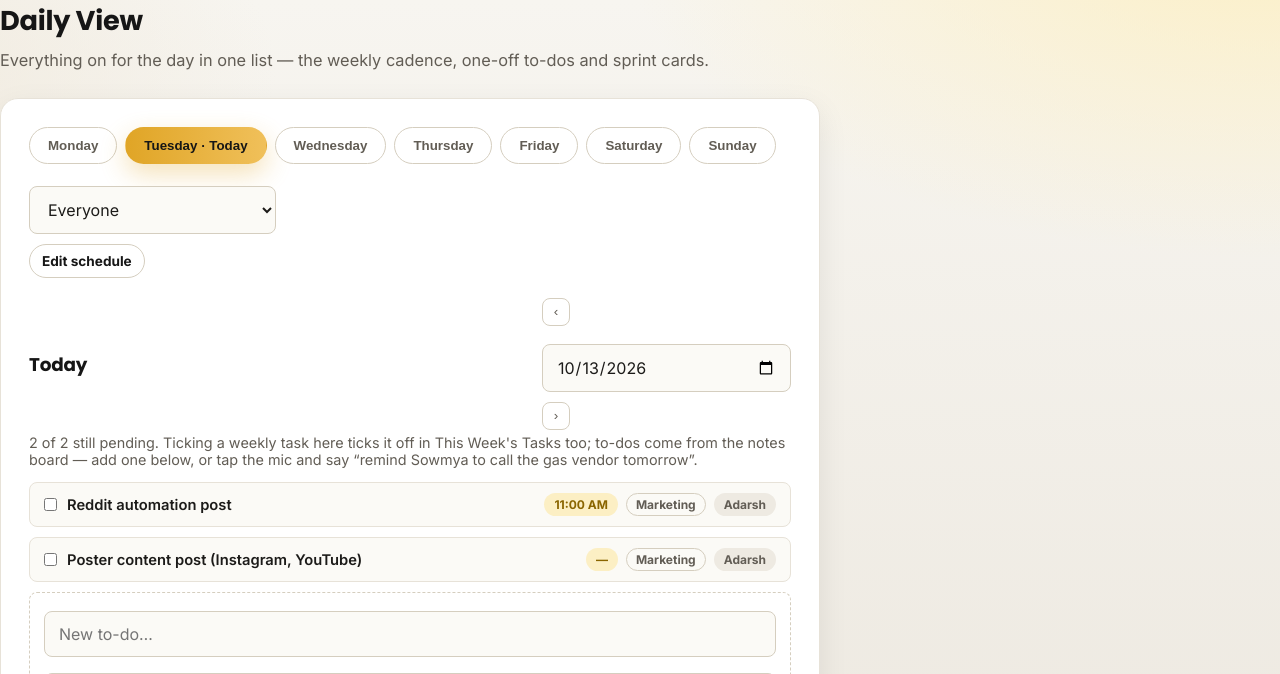
the person filter narrows the list, but never while editing
Click the button "Monday". click: (73, 146)
box: [29,127,117,164]
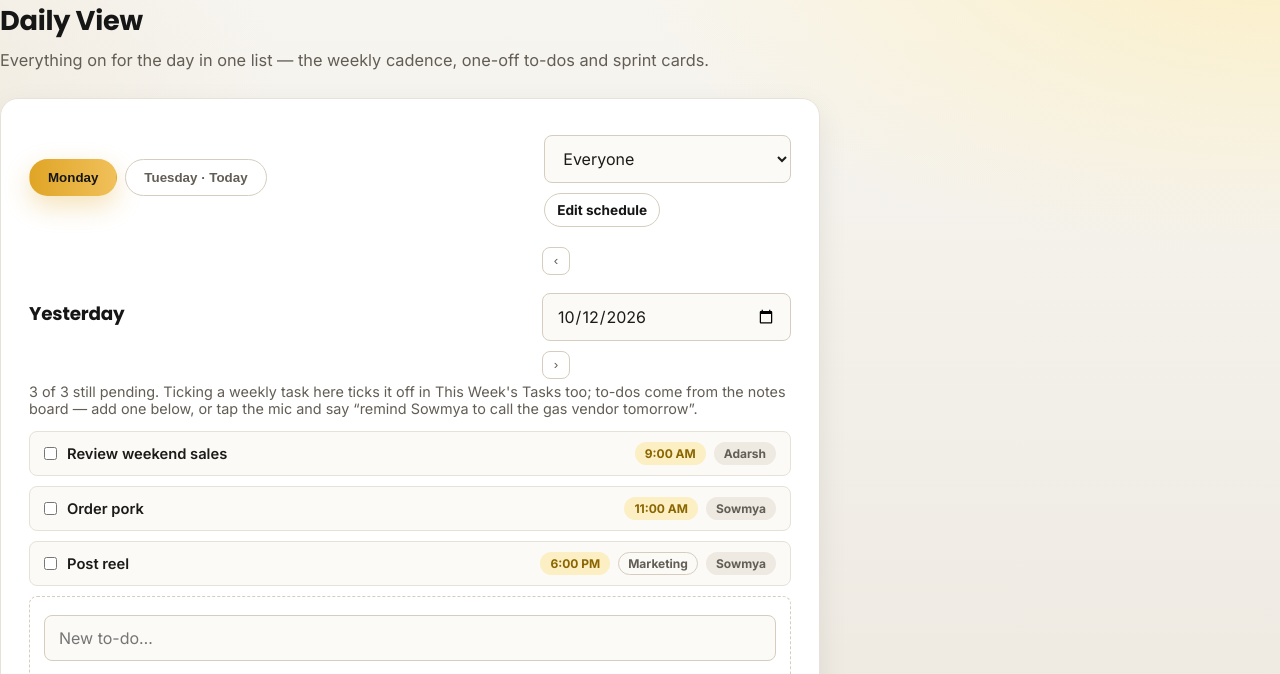
Check: the text "Review weekend sales" is shown, box [67,444,227,462]
Select "Sowmya" in the dropdown named "filter by assignee". click: (668, 159)
box: [544,135,791,183]
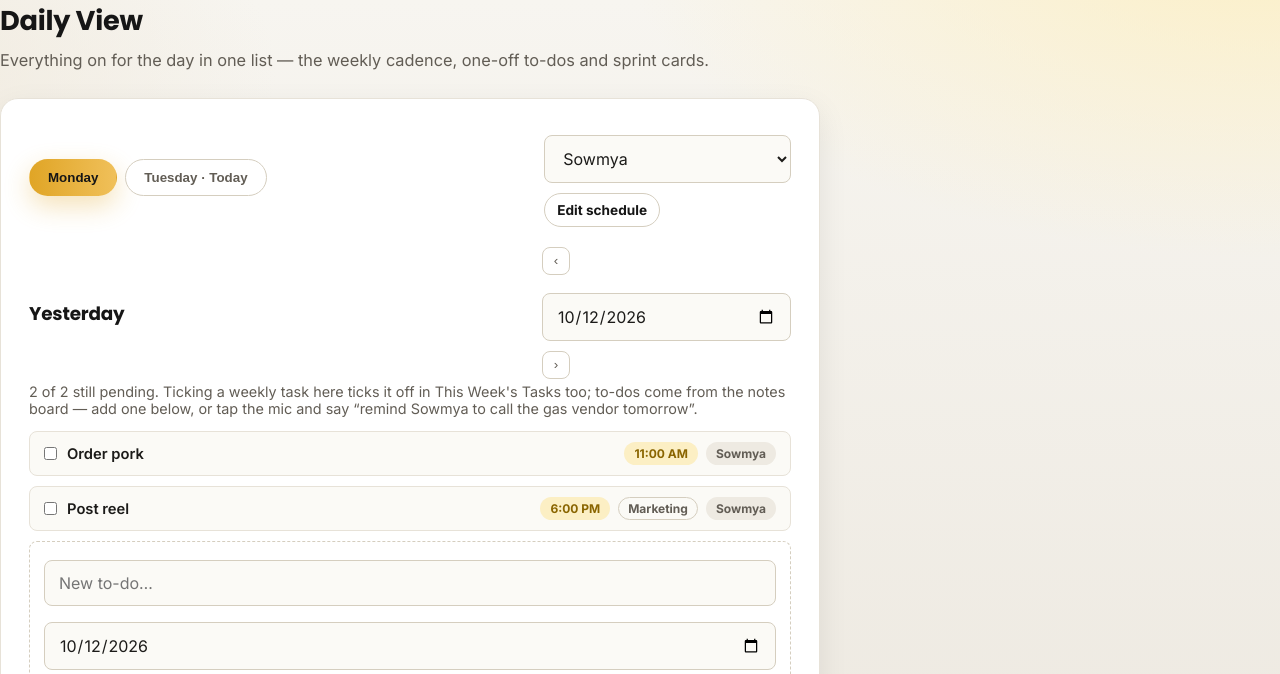
Check: the text "Review weekend sales" is gone
Click the button "Edit schedule". click: (602, 210)
box: [544,193,660,227]
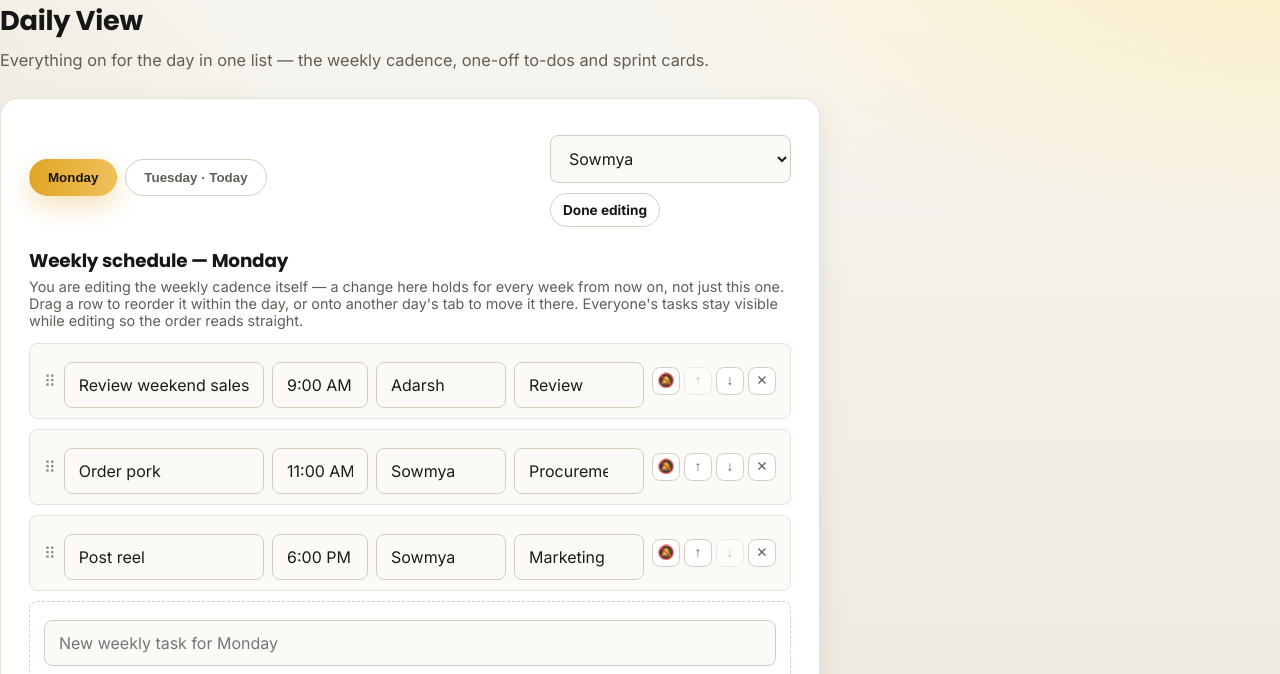
Check: the field named "Task name for Review weekend sales" is shown, box [64,362,264,408]
